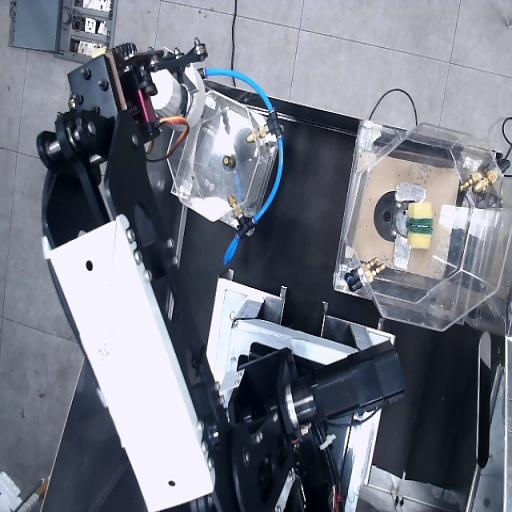cup in rinse station: (151, 65, 205, 126)
